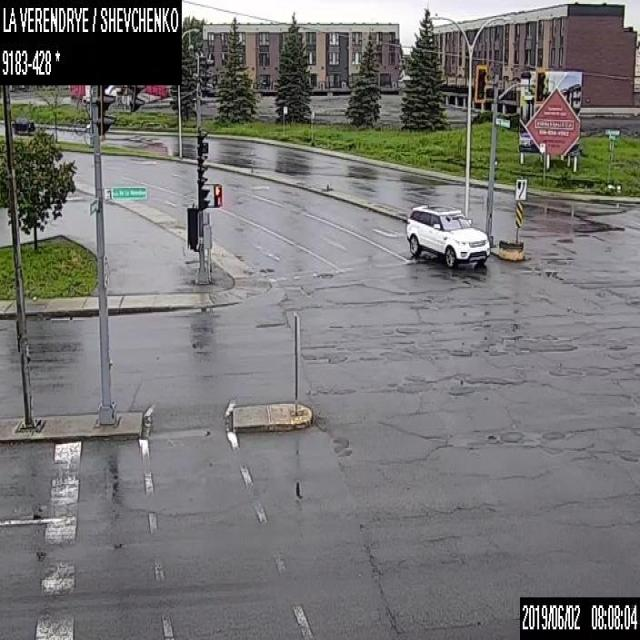vehicle: (405, 201, 490, 268)
